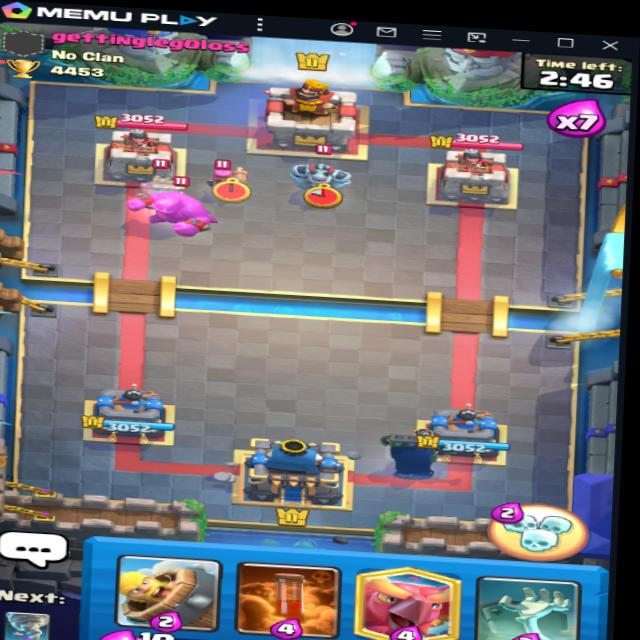electro-golem: (124, 185, 220, 238)
firecracker: (199, 157, 246, 193)
mega-minion: (288, 142, 358, 204)
royal-ghost: (110, 164, 205, 209)
